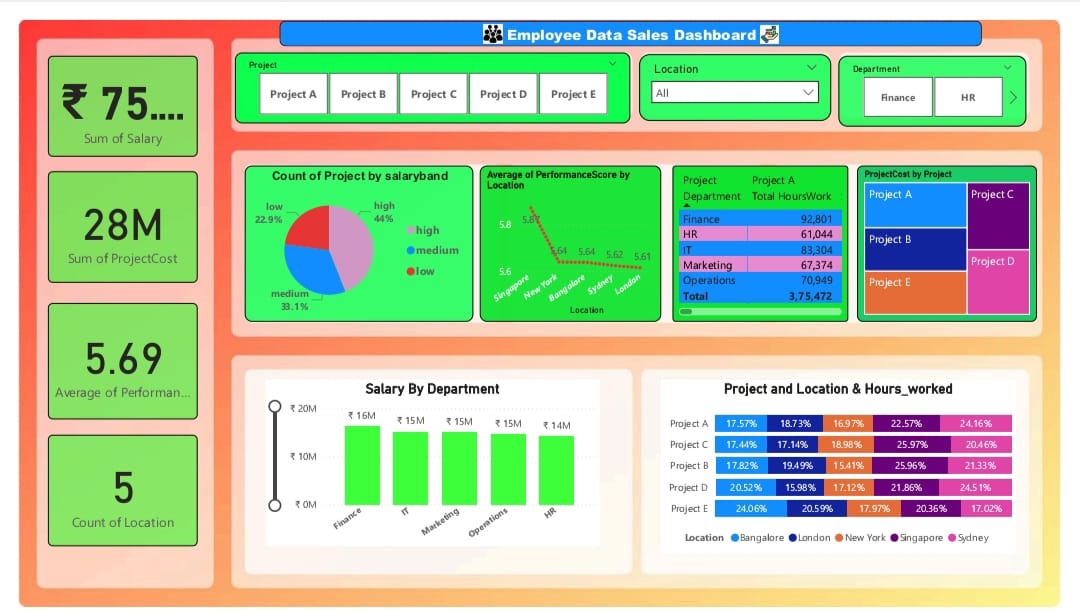

The page's visual inventory and layout, read from the dashboard file:
{"tool":"powerbi","page":{"name":"Page 1","canvas":[1280,720],"ordinal":0},"visuals":[{"type":"clusteredColumnChart","title":"Salary By Department","fields":{"Y":["Sum(Sheet1.Salary)"],"Category":["Sheet1.Department"]},"box":[302.7,441.8,410,204.5],"z":0},{"type":"hundredPercentStackedBarChart","title":"Project and Location & Hours_worked","fields":{"Category":["Sheet1.Project"],"Y":["Sum(Sheet1.HoursWorked)"],"Series":["Sheet1.Location"]},"box":[789.1,441.8,436.4,211.8],"z":1000},{"type":"card","fields":{"Values":["Sum(Sheet1.Salary)"]},"box":[35.5,42.7,183.6,124.5],"z":2000},{"type":"card","fields":{"Values":["Sum(Sheet1.ProjectCost)"]},"box":[35.5,184.5,183.6,137.3],"z":3000},{"type":"card","fields":{"Values":["Avg(Sheet1.PerformanceScore)"]},"box":[35.5,347.3,183.6,142.7],"z":4000},{"type":"card","fields":{"Values":["Count(Sheet1.Location)"]},"box":[35.5,509.1,183.6,137.3],"z":5000},{"type":"slicer","fields":{"Values":["Sheet1.Project"]},"box":[264.8,38.6,485.7,87.1],"z":6000},{"type":"slicer","fields":{"Values":["Sheet1.Location"]},"box":[762.2,41.3,236.1,81.7],"z":7000},{"type":"slicer","fields":{"Values":["Sheet1.Department"]},"box":[1007.3,43.1,230.7,87.1],"z":8000},{"type":"pieChart","fields":{"Category":["Sheet1.salaryband"],"Y":["CountNonNull(Sheet1.Project)"]},"box":[276.5,177.8,281.9,192.1],"z":9000},{"type":"lineChart","fields":{"Category":["Sheet1.Location"],"Y":["Avg(Sheet1.PerformanceScore)"]},"box":[566.5,177.8,222.6,192.1],"z":10000},{"type":"pivotTable","fields":{"Rows":["Sheet1.Department"],"Columns":["Sheet1.Project"],"Values":["Sum(Sheet1.HoursWorked)","Sum(Sheet1.Salary)"]},"box":[802.6,177.8,216.4,192.1],"z":11000},{"type":"textbox","title":"Employee Data Sales Dashboard","box":[320.5,0,862.7,31.4],"z":12000},{"type":"image","box":[905.8,0,32.3,33.2],"z":13000},{"type":"image","box":[558.4,0,47.6,33.2],"z":14000},{"type":"treemap","title":" ProjectCost by Project","fields":{"Group":["Sheet1.Project"],"Values":["Sum(Sheet1.ProjectCost)"]},"box":[1029.7,177.8,221.7,192.1],"z":15000}]}

Visuals, with their boxes in screenshot pixels (x1, y1, x2, y2), scaled from the page's 1280x720 canvas onto the 1080x615 screenshot:
"Salary By Department" clusteredColumnChart: bbox=(255, 377, 601, 552)
"Project and Location & Hours_worked" hundredPercentStackedBarChart: bbox=(666, 377, 1034, 558)
card - Sum(Sheet1.Salary): bbox=(30, 36, 185, 143)
card - Sum(Sheet1.ProjectCost): bbox=(30, 158, 185, 275)
card - Avg(Sheet1.PerformanceScore): bbox=(30, 297, 185, 419)
card - Count(Sheet1.Location): bbox=(30, 435, 185, 552)
slicer - Sheet1.Project: bbox=(223, 33, 633, 107)
slicer - Sheet1.Location: bbox=(643, 35, 842, 105)
slicer - Sheet1.Department: bbox=(850, 37, 1045, 111)
pieChart - Sheet1.salaryband x CountNonNull(Sheet1.Project): bbox=(233, 152, 471, 316)
lineChart - Sheet1.Location x Avg(Sheet1.PerformanceScore): bbox=(478, 152, 666, 316)
pivotTable - Sheet1.Department x Sheet1.Project: bbox=(677, 152, 860, 316)
"Employee Data Sales Dashboard" textbox: bbox=(270, 0, 998, 27)
image: bbox=(764, 0, 792, 28)
image: bbox=(471, 0, 511, 28)
" ProjectCost by Project" treemap: bbox=(869, 152, 1056, 316)
